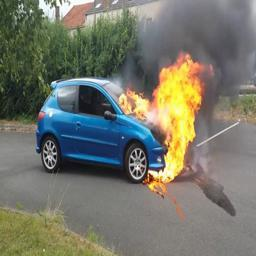fire: (119, 52, 216, 183)
